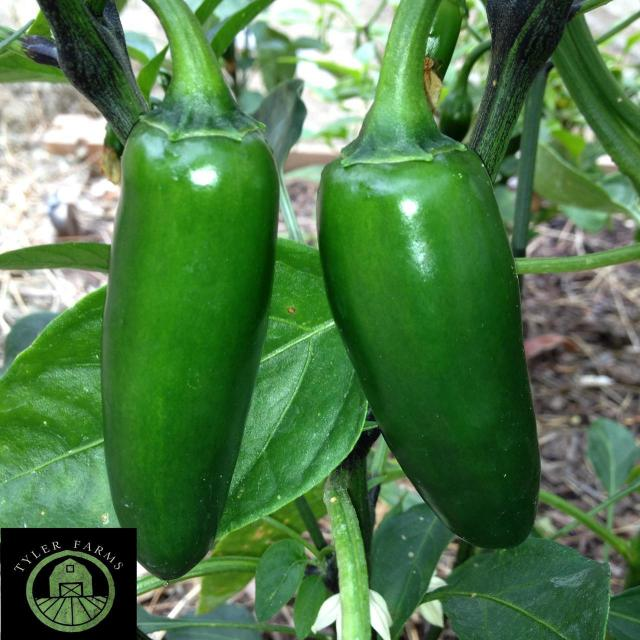aji: (315, 117, 613, 570), (118, 117, 257, 583)
